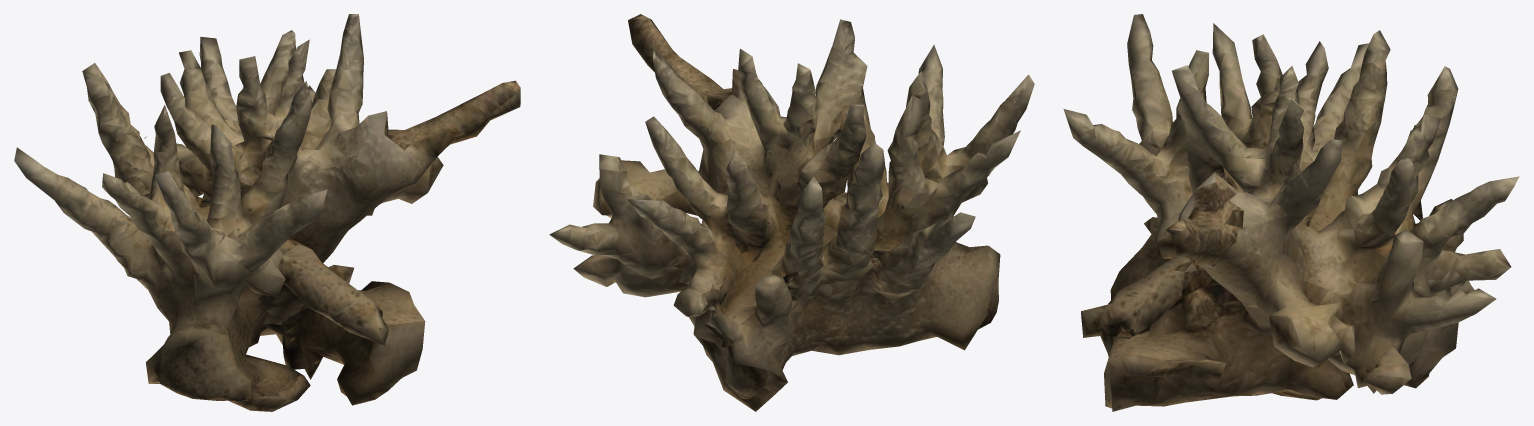
File: scan_coral_staghorn.glb
The picture shows the model from 3 angles, left to right: view 1: azimuth 30°, elevation 25°; view 2: azimuth 150°, elevation 25°; view 3: azimuth 270°, elevation 25°; orthographic projection. The views are drawn at different scales.
Parts seen in each view (by area): view 1: scan_coral_staghorn; view 2: scan_coral_staghorn; view 3: scan_coral_staghorn.
Boxes of the visible parts, left/top/right/bottom form: scan_coral_staghorn: left=14, top=14, right=520, bottom=411; scan_coral_staghorn: left=549, top=14, right=1034, bottom=411; scan_coral_staghorn: left=1063, top=14, right=1519, bottom=411.
Size of the model in its own units: 1.09 by 0.7497 by 0.9392.
1 material, 1 textured.
